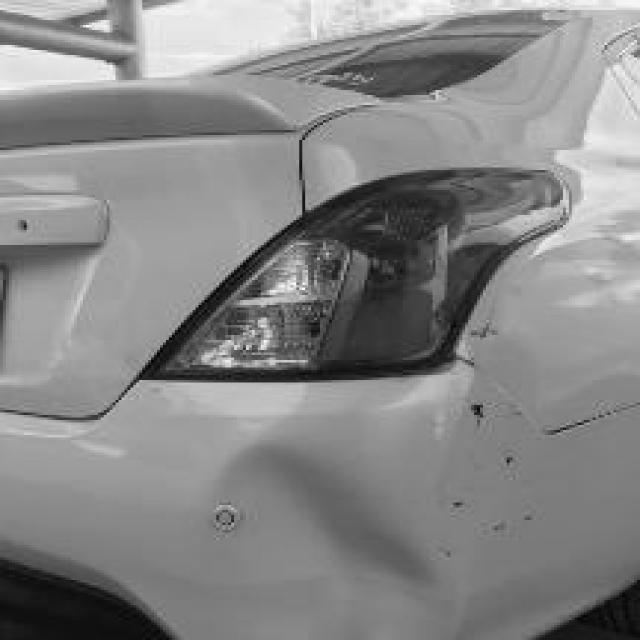Bumper: (204, 410, 527, 632)
Light: (210, 198, 477, 362)
